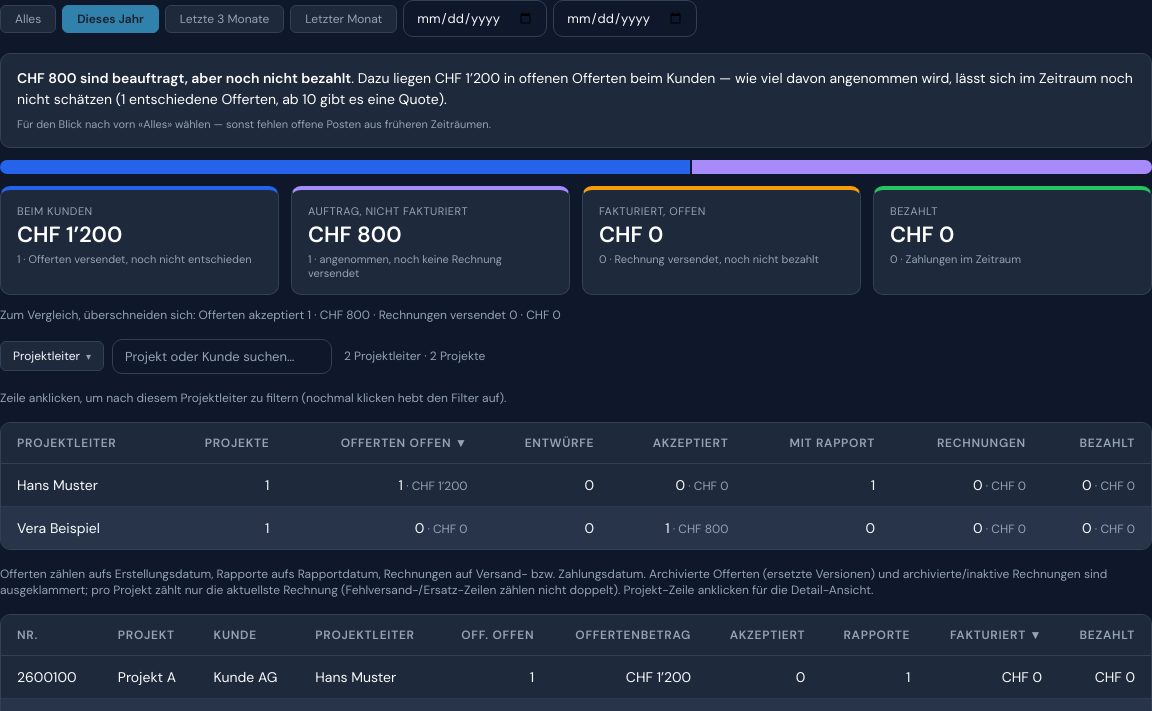
PipelineTab — Interaktion › filtert beim Klick auf eine Projektleiter-Zeile — Datumsfilter bleibt intakt
The image size is (1152, 711).
Check: the text "Projekt A" is shown, box [102,655,198,698]
Check: the text "2 Projektleiter · 2 Projekte" is shown, box [344,348,485,364]
Click the text "Vera Beispiel" below "Offerten offen" at (83, 528), box [1,506,165,549]
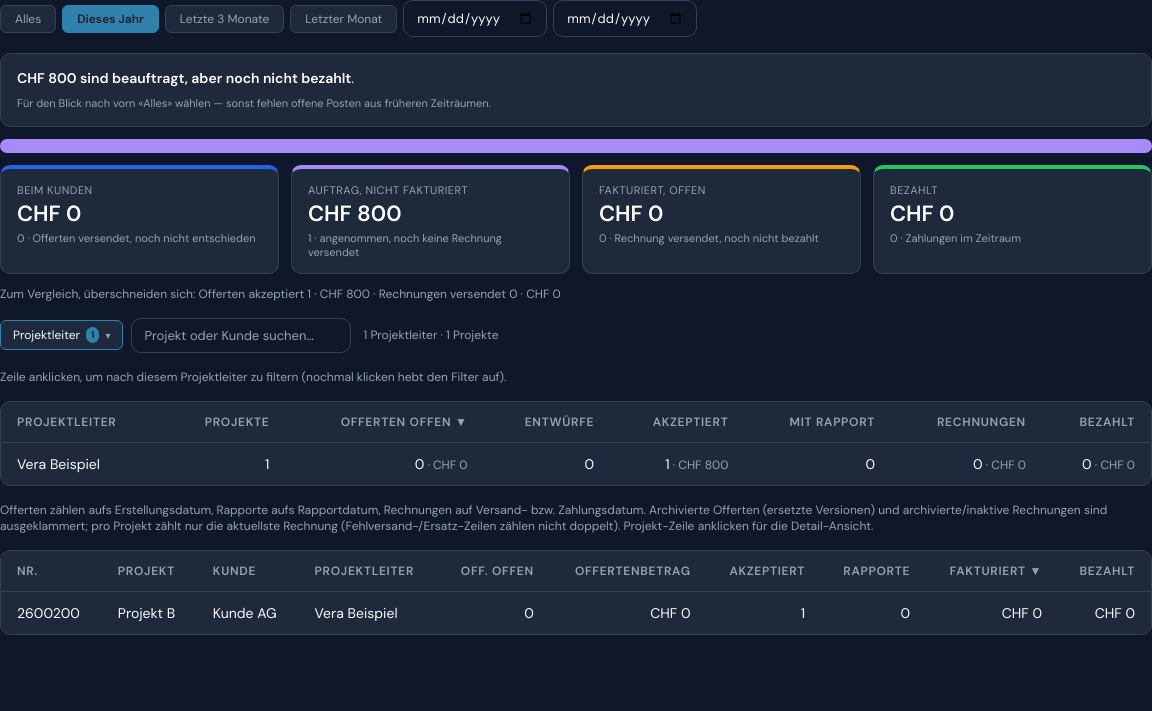
Check: the text "1 Projektleiter · 1 Projekte" is shown, box [364,327,498,343]
Check: the text "Projekt A" is gone
Check: the text "Projekt B" is shown, box [102,591,197,634]
Nochmal klicken hebt den Filter wieder auf
Click the text "Vera Beispiel" below "Offerten offen" at (83, 464), box [1,442,165,485]
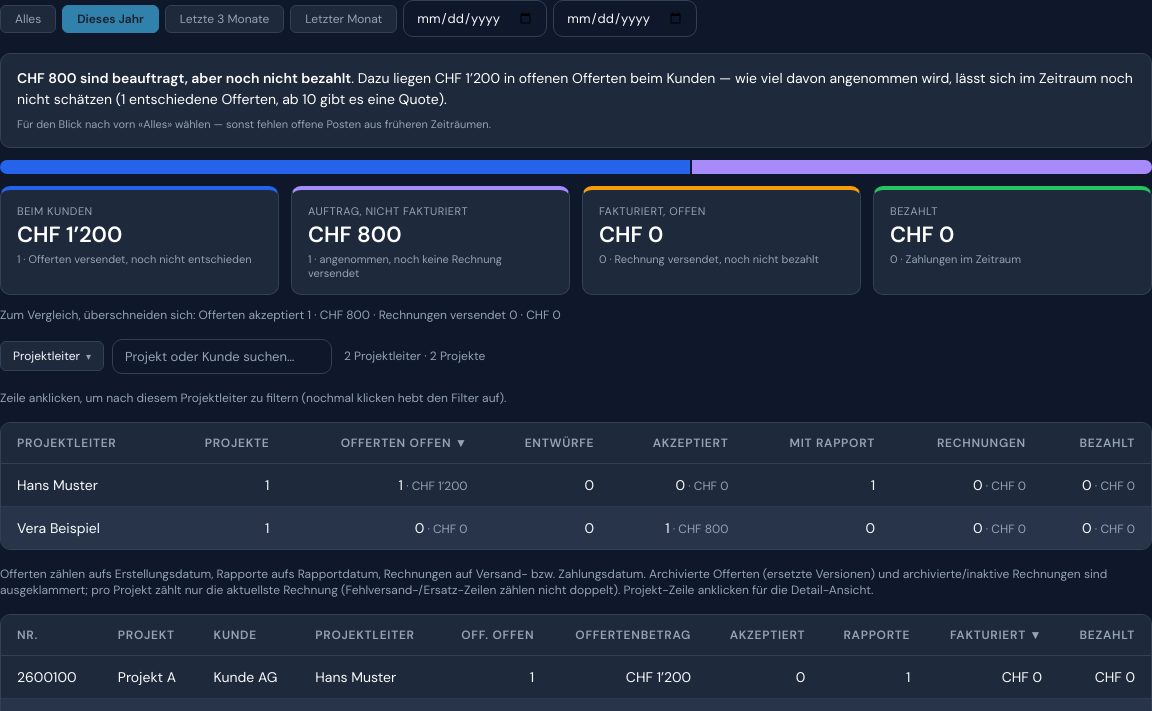
Check: the text "2 Projektleiter · 2 Projekte" is shown, box [344,348,485,364]
